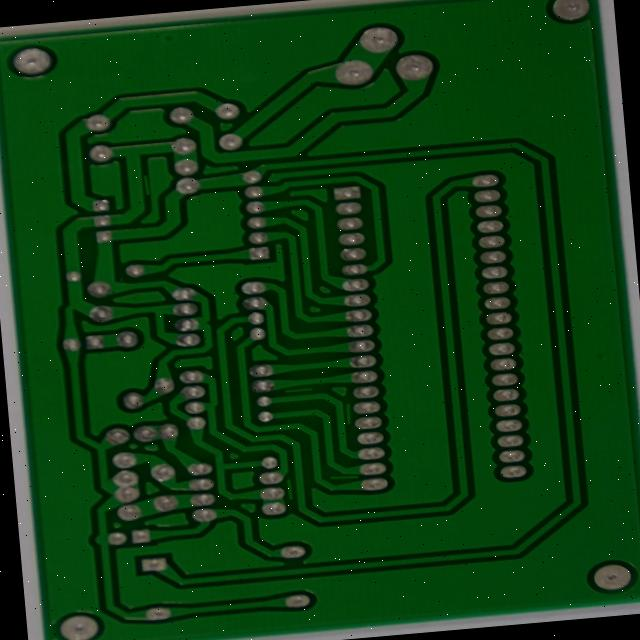spurious_copper: (285, 479, 306, 508), (345, 403, 365, 432), (285, 387, 327, 400), (139, 174, 159, 200), (333, 474, 367, 489)
